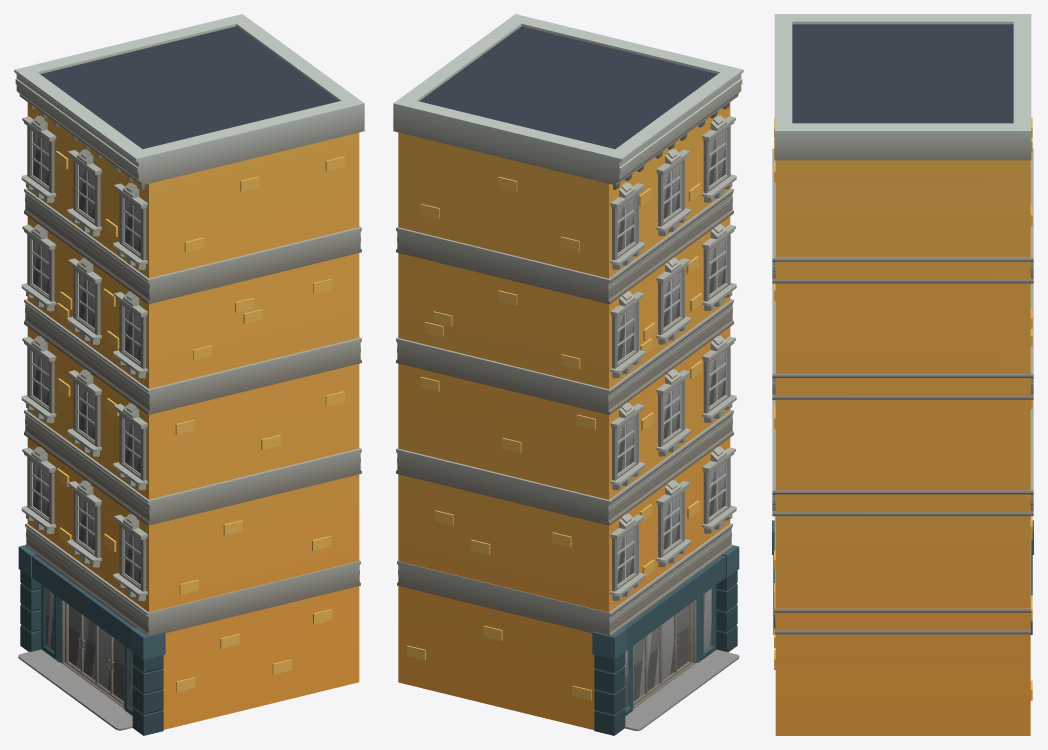
The model's file is Building_21_1_B.fbx.
The picture shows the model from 3 angles, left to right: view 1: azimuth 30°, elevation 25°; view 2: azimuth 150°, elevation 25°; view 3: azimuth 270°, elevation 25°; orthographic projection. The views are drawn at different scales.
Parts seen in each view (by area): view 1: Building_21_1_B; view 2: Building_21_1_B; view 3: Building_21_1_B.
Part boxes in pixels (x1,y1,x2,y2): Building_21_1_B: [14, 14, 364, 735]; Building_21_1_B: [393, 14, 743, 735]; Building_21_1_B: [772, 14, 1033, 735].
Size of the model in its own units: 779 by 1825 by 713.
